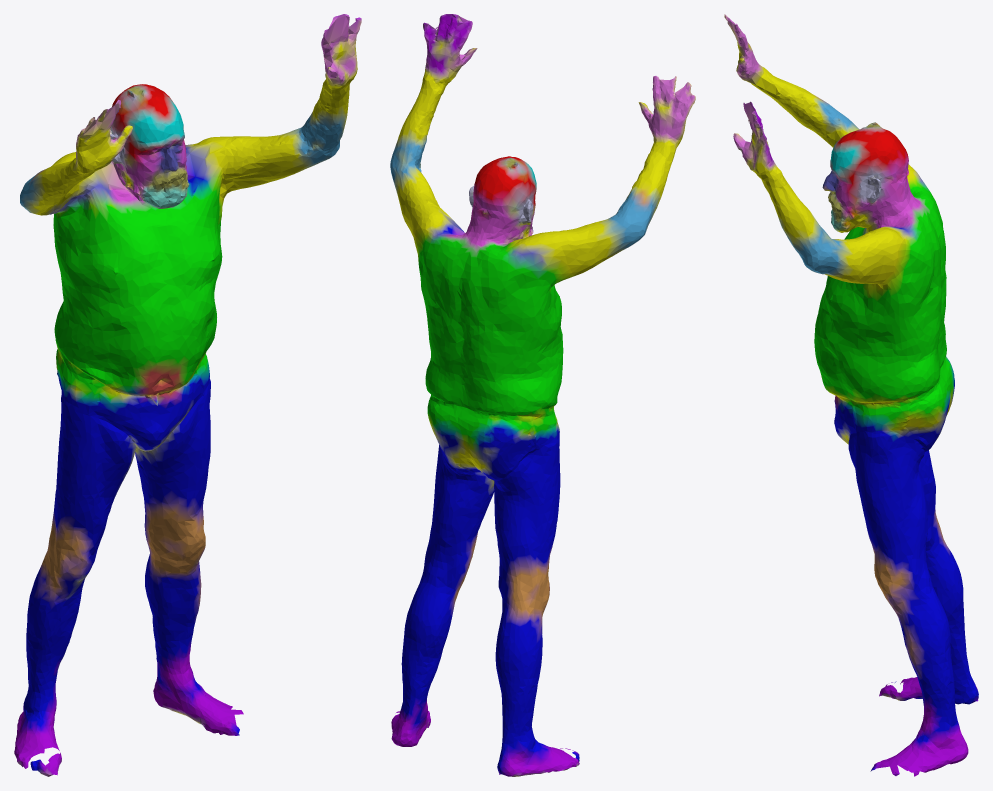
File: 59_output_fine_grained.glb
The picture shows the model from 3 angles, left to right: view 1: azimuth 30°, elevation 25°; view 2: azimuth 150°, elevation 25°; view 3: azimuth 270°, elevation 25°; orthographic projection. The views are drawn at different scales.
Parts seen in each view (by area): view 1: 59_output_fine_grained.obj; view 2: 59_output_fine_grained.obj; view 3: 59_output_fine_grained.obj.
Part boxes in pixels (left/top/right/bottom): 59_output_fine_grained.obj: left=14, top=14, right=361, bottom=776; 59_output_fine_grained.obj: left=390, top=14, right=695, bottom=776; 59_output_fine_grained.obj: left=724, top=14, right=978, bottom=776.
Size of the model in its own units: 0.817 by 1.94 by 0.6523.
